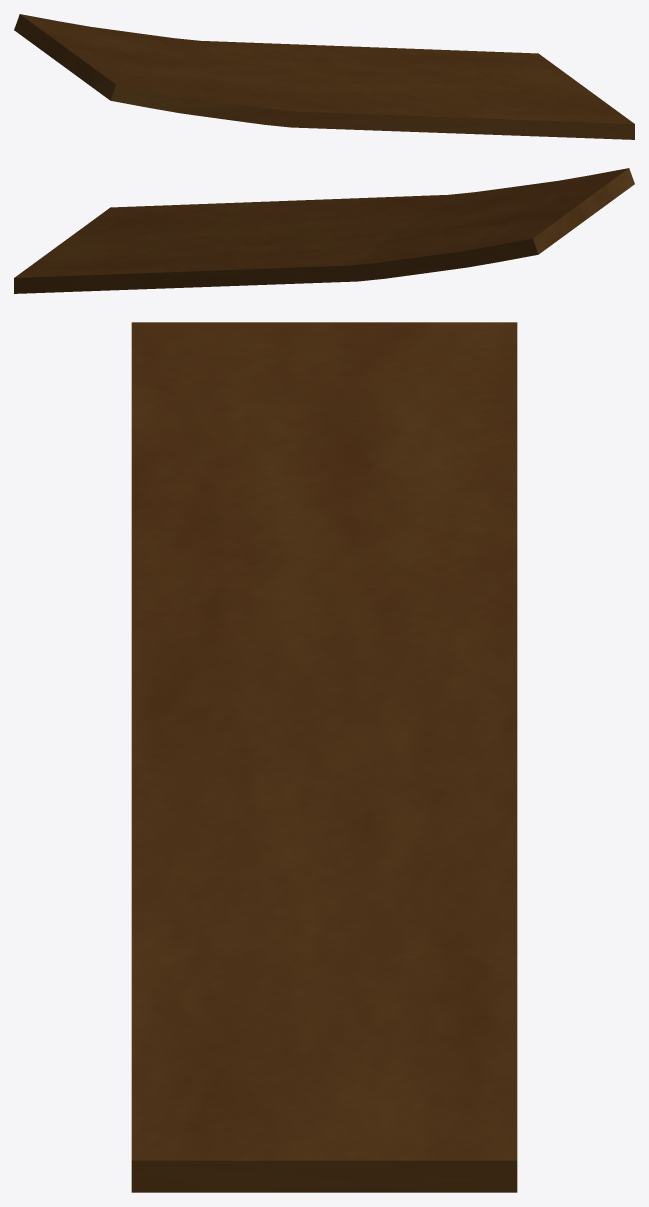
Rendered from ramp.fbx.
3 renders of one model, top to bottom at view 1: azimuth 30°, elevation 25°; view 2: azimuth 150°, elevation 25°; view 3: azimuth 270°, elevation 25°, orthographic. The views are drawn at different scales.
Visible parts, largest first — view 1: Cube; view 2: Cube; view 3: Cube.
Boxes of the visible parts, <box> form: Cube: <box>14,14,634,139</box>; Cube: <box>14,168,634,293</box>; Cube: <box>131,322,517,1192</box>.
Bounding box in the file's own units: 628 × 208 × 200.
